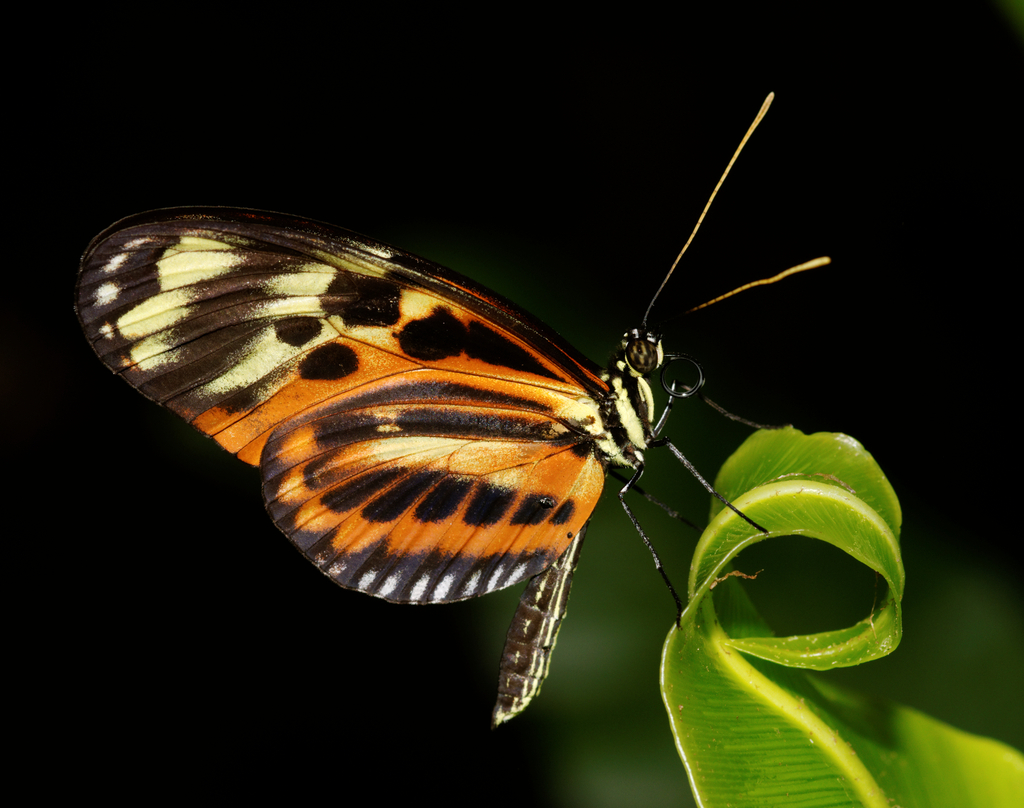Butterfly: (59, 146, 800, 735)
